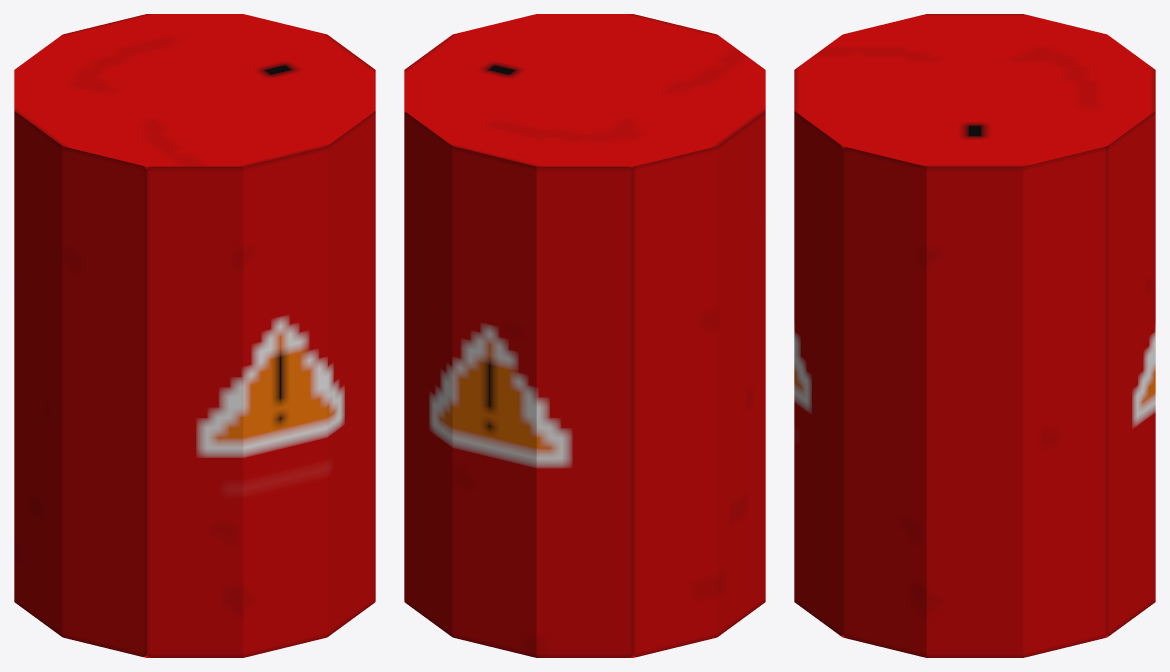
File: barrel.fbx
3 views of the same model, side by side, from view 1: azimuth 30°, elevation 25°; view 2: azimuth 150°, elevation 25°; view 3: azimuth 270°, elevation 25° (orthographic).
Visible parts, largest first — view 1: cylinder; view 2: cylinder; view 3: cylinder.
Boxes of the visible parts, x1=… form: cylinder: x1=14, y1=14, x2=375, y2=657; cylinder: x1=404, y1=14, x2=765, y2=657; cylinder: x1=794, y1=14, x2=1155, y2=657.
Size of the model in its own units: 25 by 37.5 by 25.
1 material, 1 textured.
